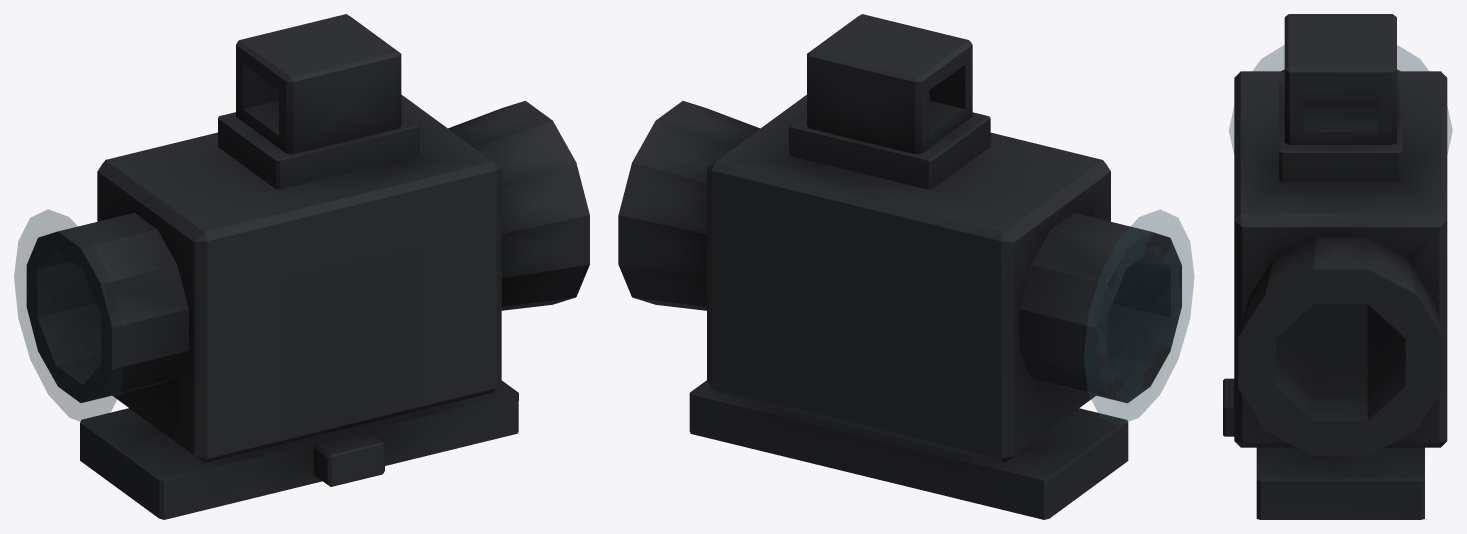
File: k-att-magnified-lprisma3xconpunto.glb
The picture shows the model from 3 angles, left to right: view 1: azimuth 30°, elevation 25°; view 2: azimuth 150°, elevation 25°; view 3: azimuth 270°, elevation 25°; orthographic projection.
Parts seen in each view (by area): view 1: kit, lens; view 2: kit, lens; view 3: kit, lens.
Part boxes in pixels (left/top/right/bottom): kit: left=26, top=14, right=589, bottom=519; lens: left=14, top=209, right=124, bottom=425; kit: left=618, top=14, right=1181, bottom=519; lens: left=1084, top=209, right=1194, bottom=425; kit: left=1223, top=14, right=1447, bottom=519; lens: left=1229, top=45, right=1452, bottom=153.
Bounding box in the file's own units: 0.098 × 0.079 × 0.041.
